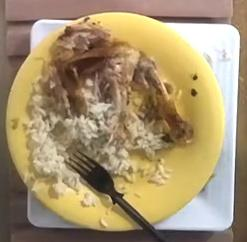rice: (26, 86, 149, 198)
